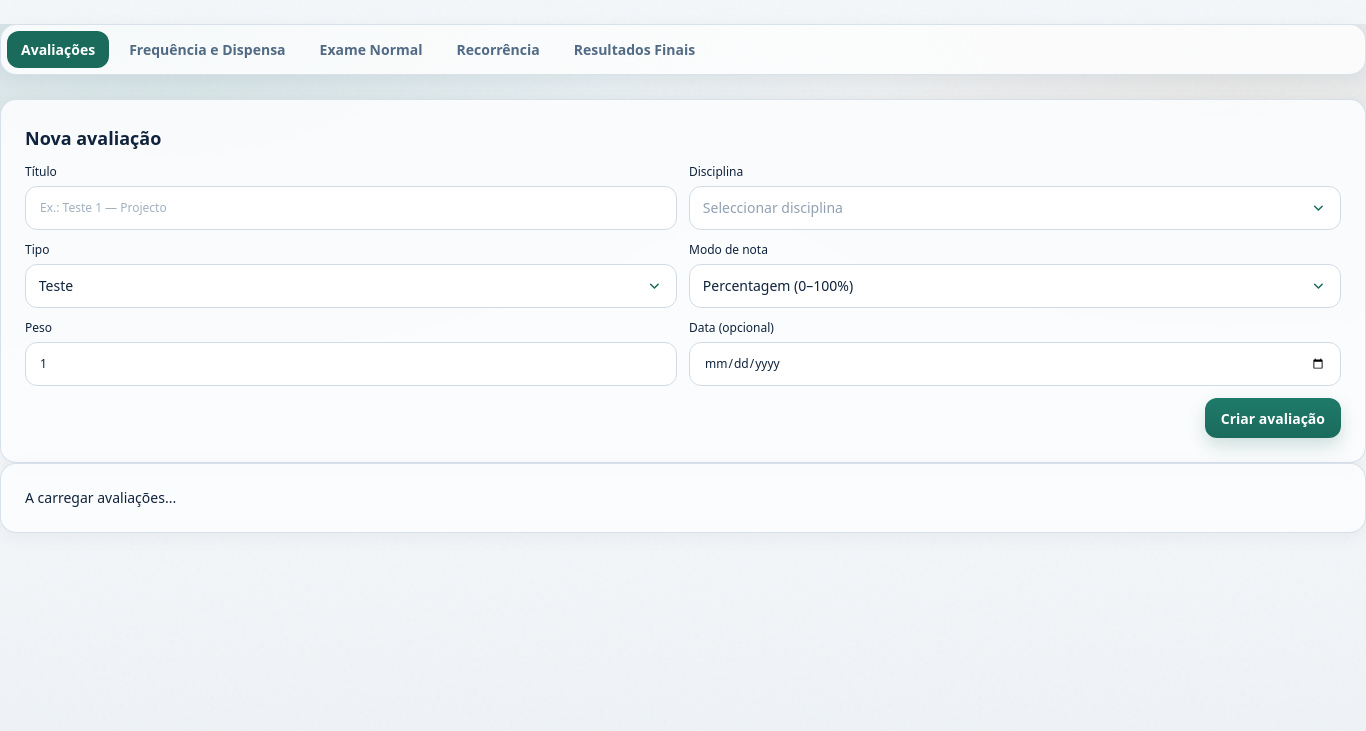
Test case: AssessmentsPage › docente dispensa estudante ao seu critério no quadro de Frequência e Dispensa
Click the tab "Frequência e Dispensa". click: (207, 50)
box: [115,31,300,68]
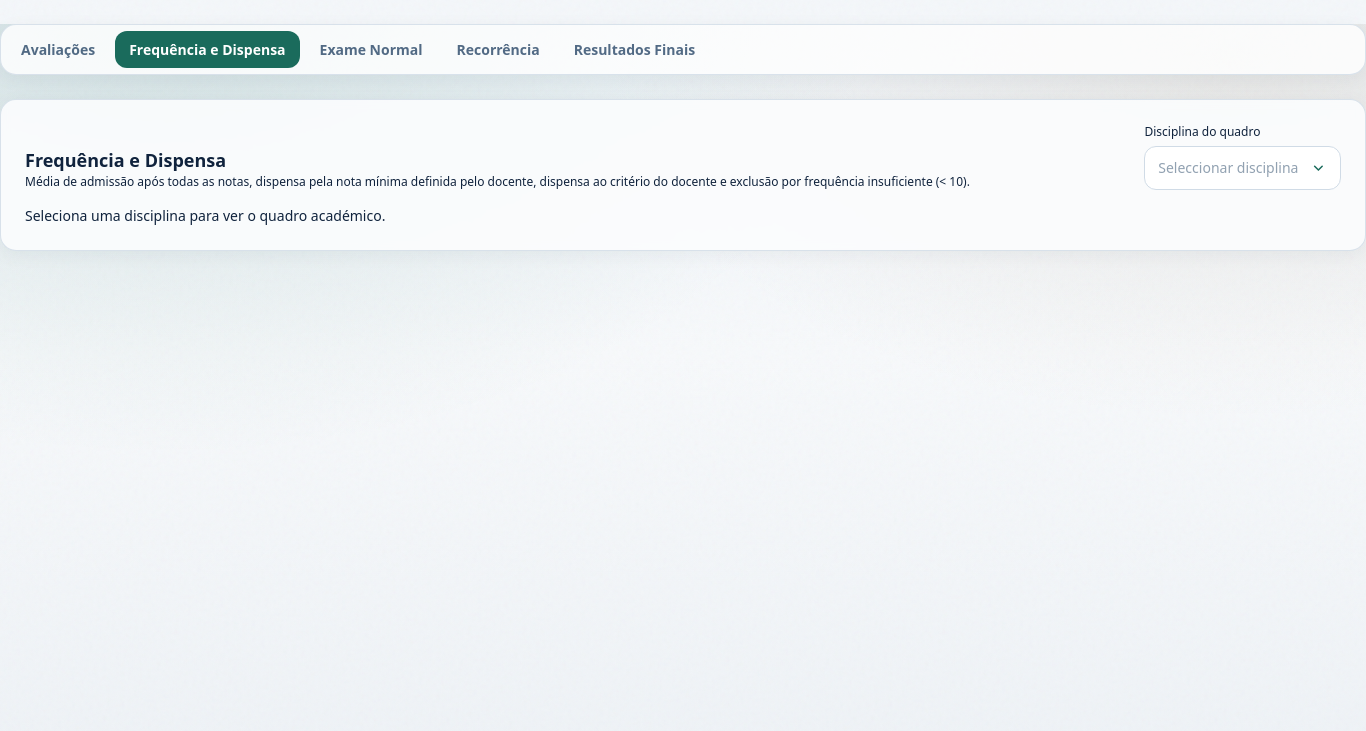
Now the label labelled "Disciplina do quadro" is shown
Select "PTP3 — Projeto" in the dropdown labelled "Disciplina do quadro Seleccionar disciplina". click: (1243, 157)
box: [1144,124,1341,190]
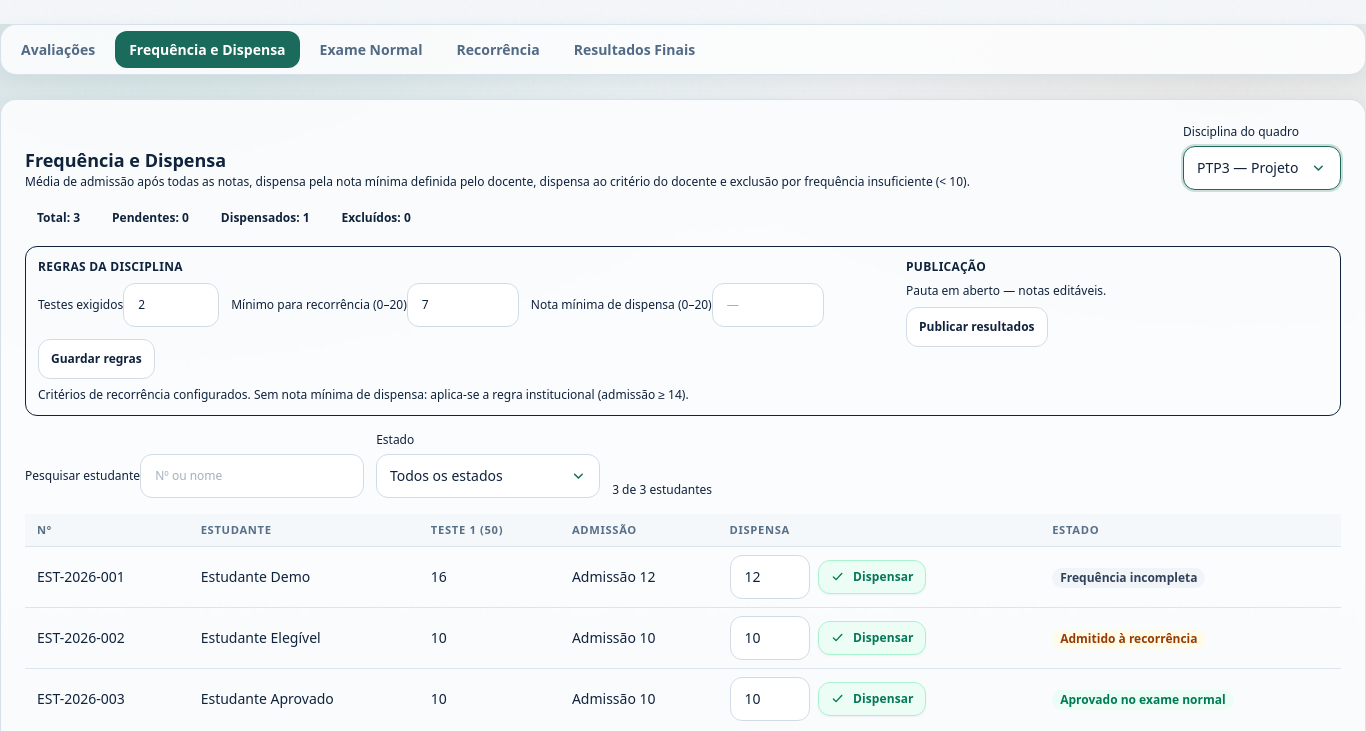
Now the field showing "12" is shown
Replace the text in the field named "Nota de dispensa de EST-2026-001" with "16". click: (770, 577)
box: [730,555,810,599]
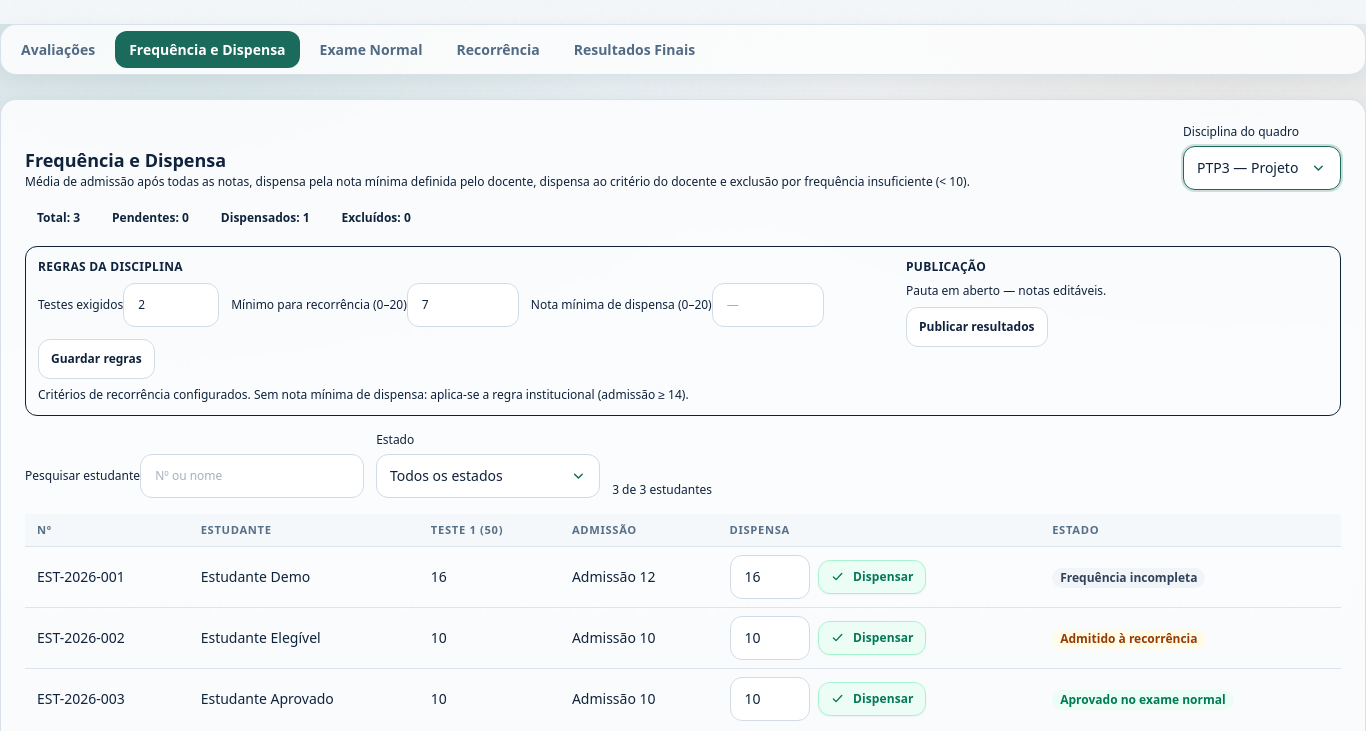
Click the button "Dispensar" in the row of "EST-2026-001". click: (872, 577)
box: [818,560,926,594]
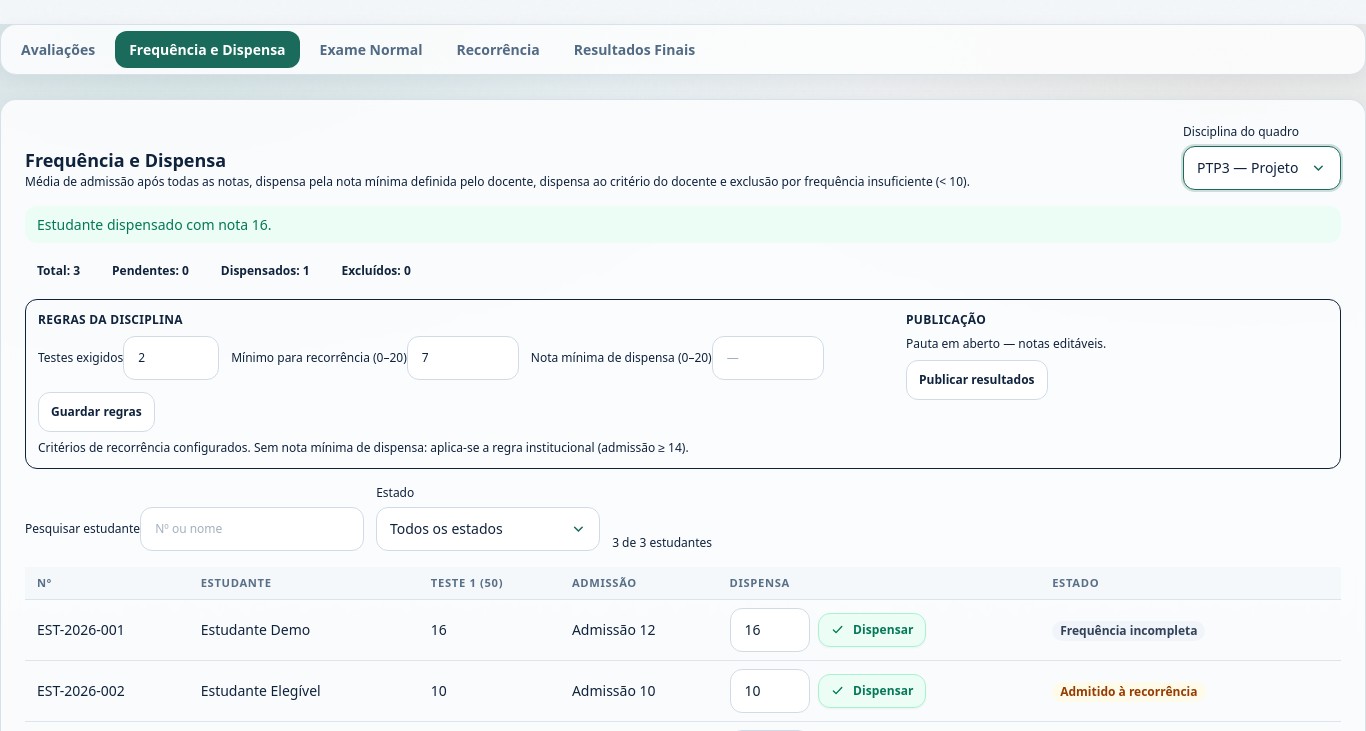
Now the text "Estudante dispensado com nota 16." is shown, box [25,206,1341,243]
